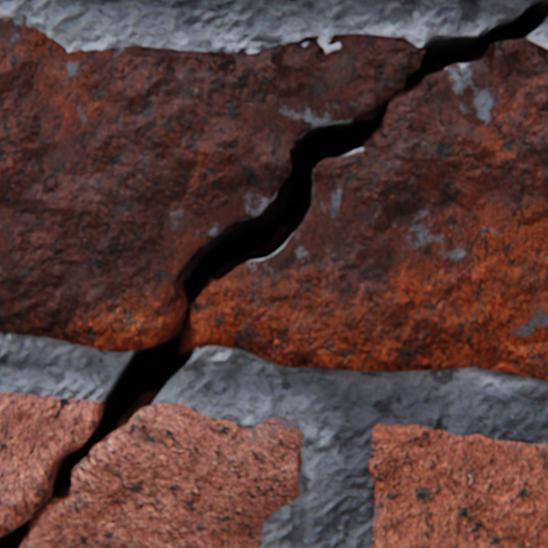brick: (367, 423, 547, 547)
broken_brick: (0, 15, 423, 351), (191, 39, 547, 379), (20, 403, 301, 547), (0, 392, 101, 532)
crack: (0, 0, 547, 547), (64, 42, 73, 51)
